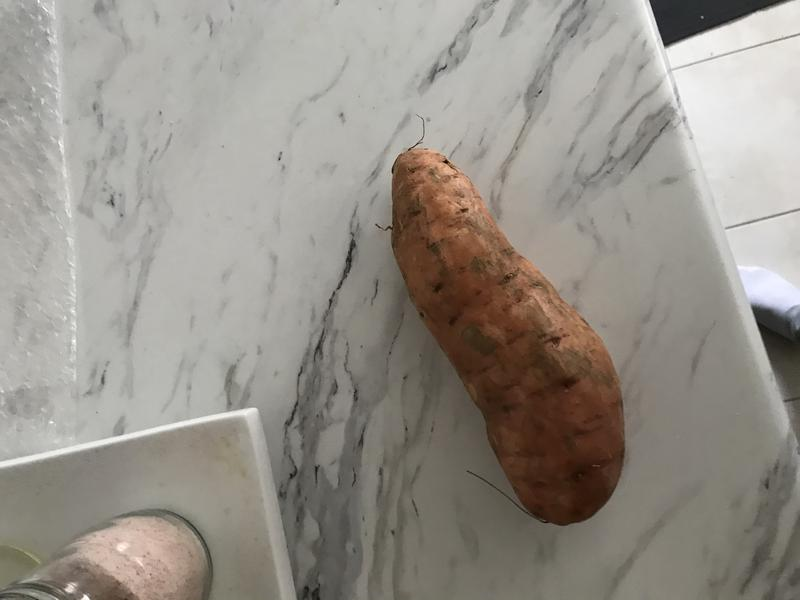sweet_potato: (360, 129, 641, 546)
